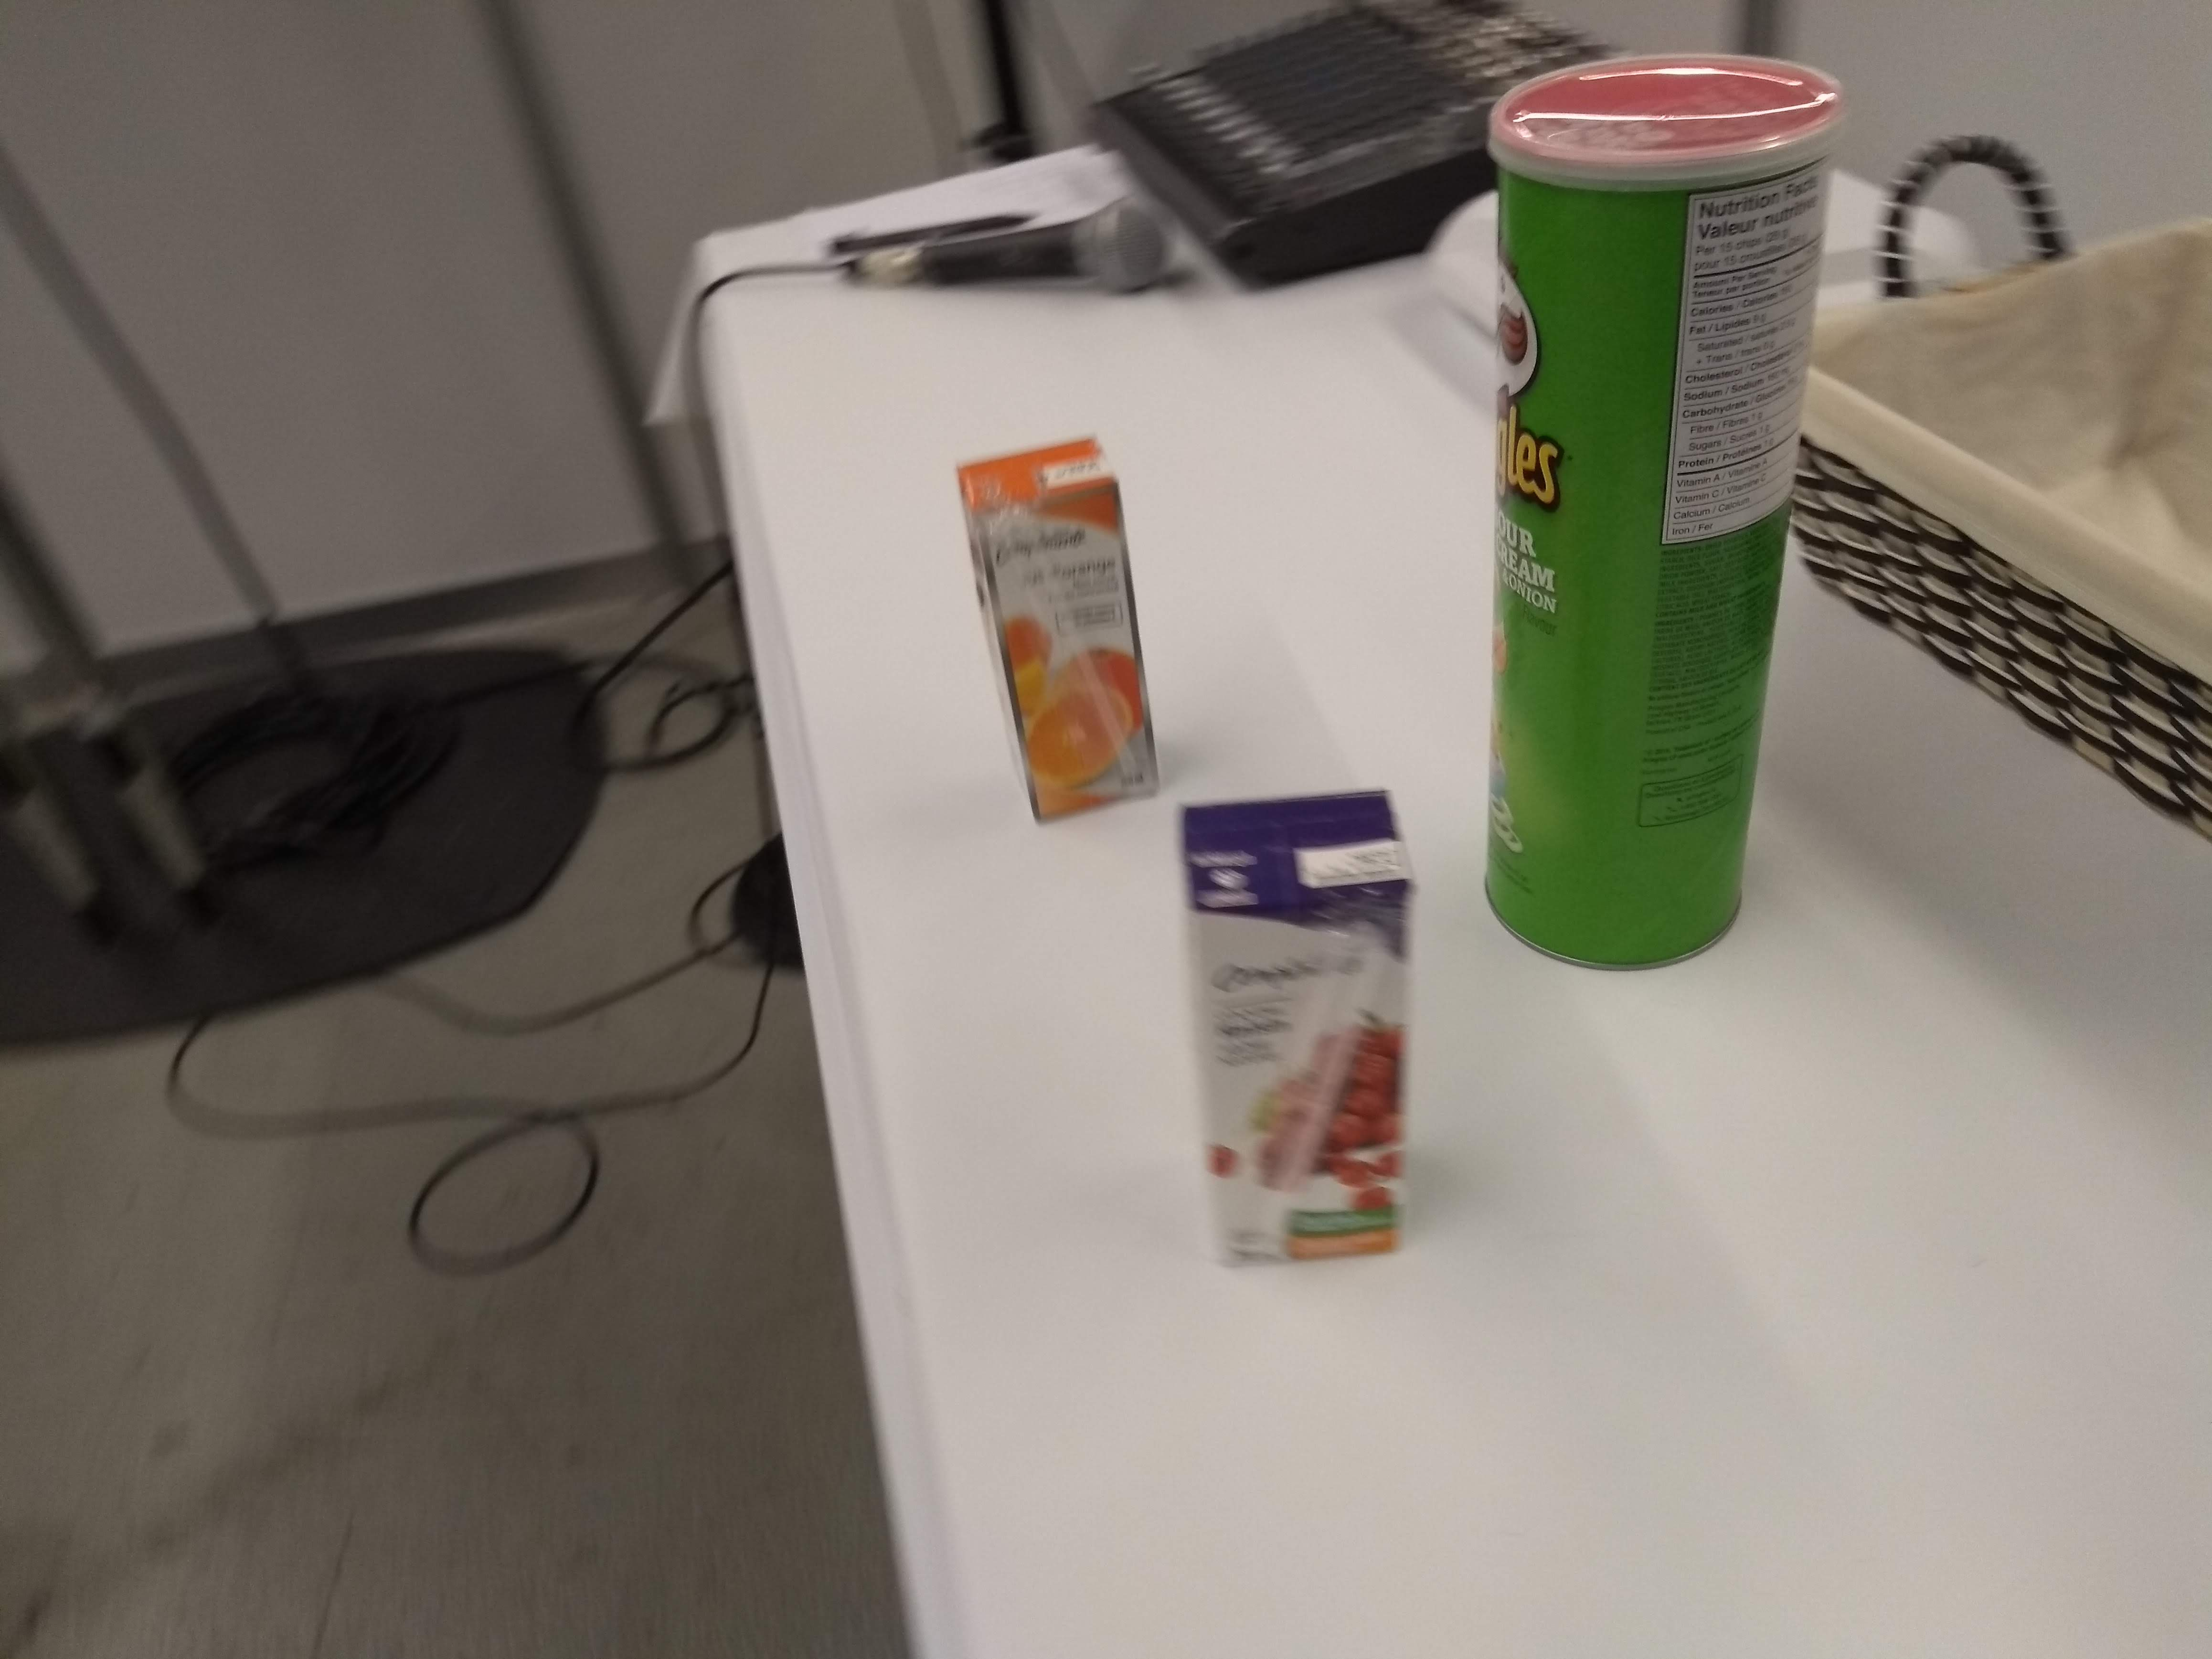grape_juice: (1150, 774, 1442, 1283)
orange_juice: (942, 425, 1174, 843)
pringles: (1468, 47, 1858, 992)
